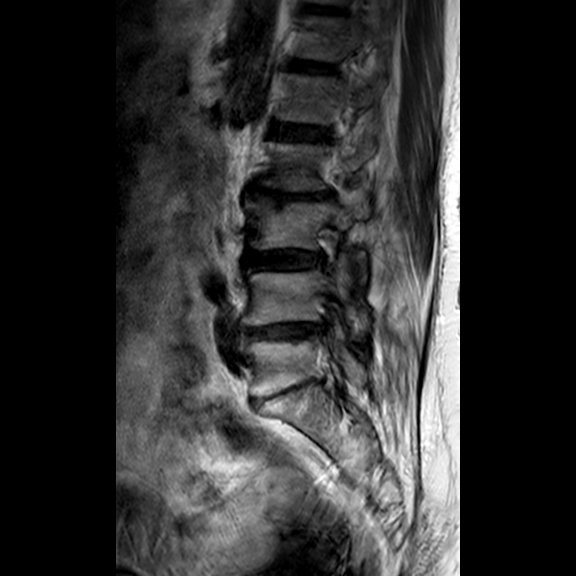LFS1: (307, 215, 353, 278)
